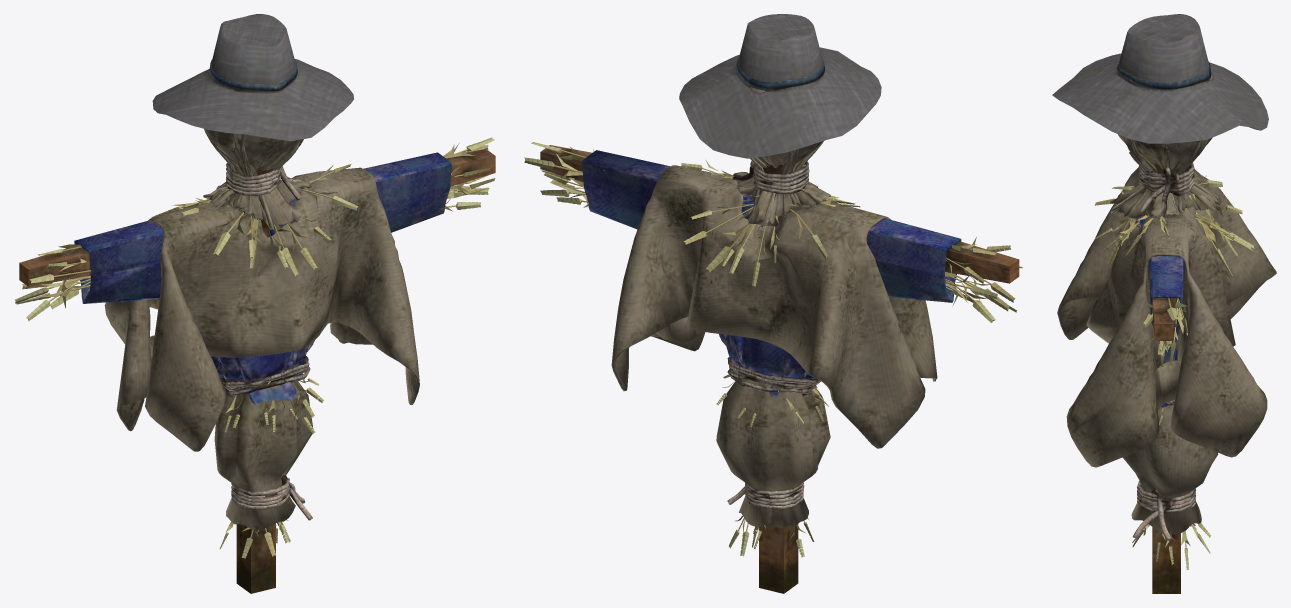
The model's file is farm-scarecrow.glb.
3 renders of one model, left to right at view 1: azimuth 30°, elevation 25°; view 2: azimuth 150°, elevation 25°; view 3: azimuth 270°, elevation 25°, orthographic.
Visible parts, largest first — view 1: Plane.005, node-0.906_Wheat_0; view 2: Plane.005, node-0.906_Wheat_0; view 3: Plane.005, node-0.906_Wheat_0.
Boxes of the visible parts, x1=… form: Plane.005: x1=19, y1=14, x2=495, y2=593; node-0.906_Wheat_0: x1=15, y1=137, x2=495, y2=558; Plane.005: x1=540, y1=14, x2=1019, y2=593; node-0.906_Wheat_0: x1=524, y1=142, x2=1022, y2=557; Plane.005: x1=1052, y1=14, x2=1276, y2=593; node-0.906_Wheat_0: x1=1094, y1=175, x2=1254, y2=569.
Bounding box in the file's own units: 563 × 627 × 228.
Materials: 2 (2 with a texture image).
